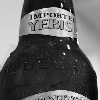beer: (9, 1, 96, 98)
